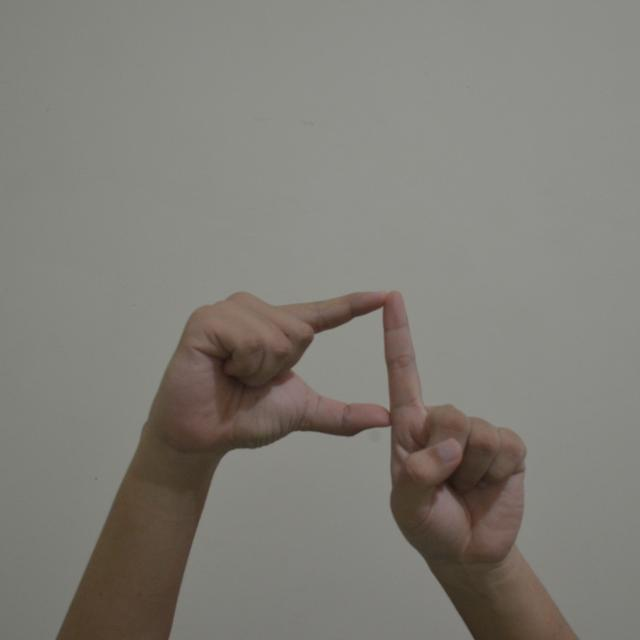D: (143, 276, 533, 572)
